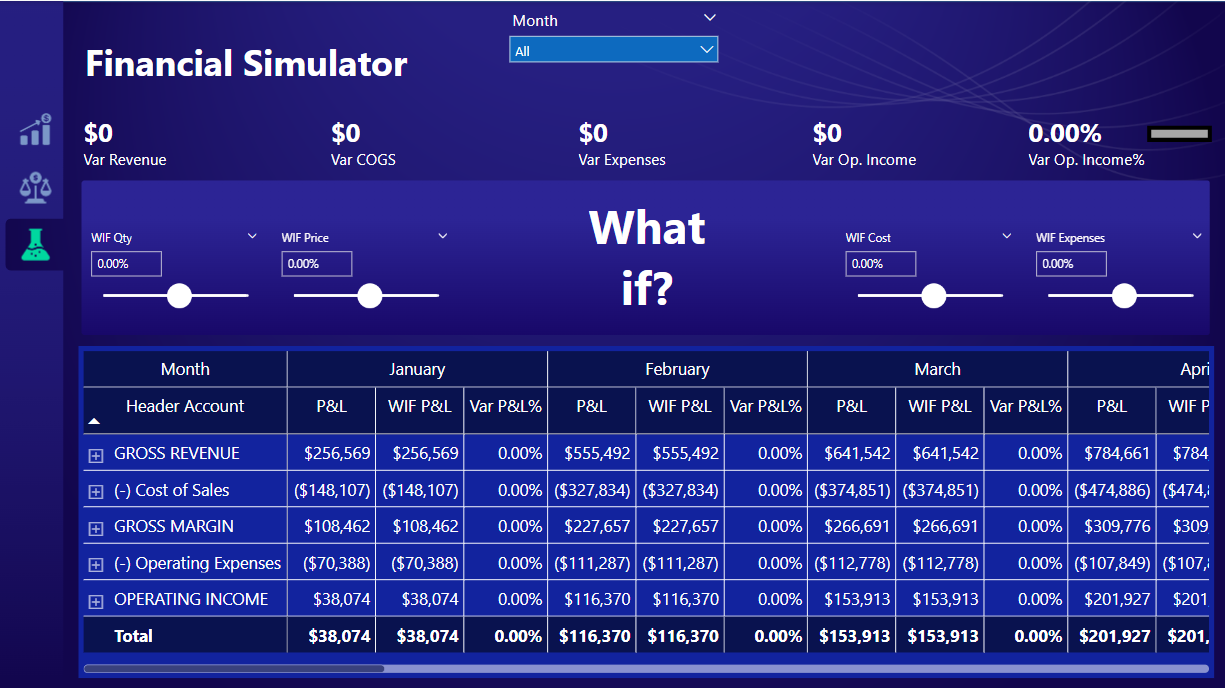

What the dashboard file says about the page in this screenshot:
{"tool":"powerbi","page":{"name":"Financial Simulator","canvas":[1280,720],"ordinal":2},"visuals":[{"type":"image","box":[7.3,223.3,60,60],"z":0},{"type":"image","box":[7.3,163.3,60,60],"z":1000},{"type":"image","box":[7.3,103.3,60,60],"z":2000},{"type":"pivotTable","fields":{"Rows":["dAccountHeader.Header Account","dAccount.Subheader Account","dAccount.Detailed Account"],"Values":["Key Measures.P&L","Simulation.WIF P&L","Simulation.Var P&L%"],"Columns":["dCalendar.Date.Variation.Date Hierarchy.Month"]},"box":[83.2,359.1,1183,345.8],"z":3000},{"type":"slicer","fields":{"Values":["WIF Qty.WIF Qty"]},"box":[83.2,232.4,198.4,119.1],"z":4000},{"type":"slicer","fields":{"Values":["WIF Price.WIF Price"]},"box":[281.6,232.4,198.4,119.1],"z":5000},{"type":"slicer","fields":{"Values":["WIF Cost.WIF Cost"]},"box":[869.3,232.4,198.4,119.1],"z":6000},{"type":"slicer","fields":{"Values":["WIF Expenses.WIF Expenses"]},"box":[1067.7,232.4,198.4,119.1],"z":7000},{"type":"multiRowCard","title":"Operational Revenue","fields":{"Values":["Simulation.Var Revenue"]},"box":[83.1,112.6,198.4,72.4],"z":7001},{"type":"multiRowCard","title":"Operational Revenue","fields":{"Values":["Simulation.Var Op. Income%"]},"box":[1067.3,112.6,174.3,72.4],"z":7002},{"type":"multiRowCard","title":"Operational Revenue","fields":{"Values":["Simulation.Var COGS"]},"box":[340.6,112.6,201.1,72.4],"z":7003},{"type":"multiRowCard","title":"Operational Revenue","fields":{"Values":["Simulation.Var Expenses"]},"box":[598,112.6,160.9,72.4],"z":7004},{"type":"multiRowCard","title":"Operational Revenue","fields":{"Values":["Simulation.Var Op. Income"]},"box":[842,112.6,193.1,72.4],"z":7005},{"type":"textbox","box":[85,32.6,436.7,90],"z":7006},{"type":"textbox","box":[598,195.8,152.9,163.6],"z":7007},{"type":"slicer","fields":{"Values":["dCalendar.Month"]},"box":[521.3,3.3,237.6,84.4],"z":7008},{"type":"card","fields":{"Values":["Simulation.KPI"]},"box":[1179.9,93.9,99.2,77.8],"z":7009}]}

Visuals, with their boxes on the page's 1280x720 design canvas (x1, y1, x2, y2). These are canvas units, not pixel positions in the 1225x688 screenshot, which may show the page scaled, cropped or inside an application window:
image: bbox=(7, 223, 67, 283)
image: bbox=(7, 163, 67, 223)
image: bbox=(7, 103, 67, 163)
pivotTable - dAccountHeader.Header Account x dAccount.Subheader Account: bbox=(83, 359, 1266, 705)
slicer - WIF Qty.WIF Qty: bbox=(83, 232, 282, 352)
slicer - WIF Price.WIF Price: bbox=(282, 232, 480, 352)
slicer - WIF Cost.WIF Cost: bbox=(869, 232, 1068, 352)
slicer - WIF Expenses.WIF Expenses: bbox=(1068, 232, 1266, 352)
"Operational Revenue" multiRowCard: bbox=(83, 113, 282, 185)
"Operational Revenue" multiRowCard: bbox=(1067, 113, 1242, 185)
"Operational Revenue" multiRowCard: bbox=(341, 113, 542, 185)
"Operational Revenue" multiRowCard: bbox=(598, 113, 759, 185)
"Operational Revenue" multiRowCard: bbox=(842, 113, 1035, 185)
textbox: bbox=(85, 33, 522, 123)
textbox: bbox=(598, 196, 751, 359)
slicer - dCalendar.Month: bbox=(521, 3, 759, 88)
card - Simulation.KPI: bbox=(1180, 94, 1279, 172)
